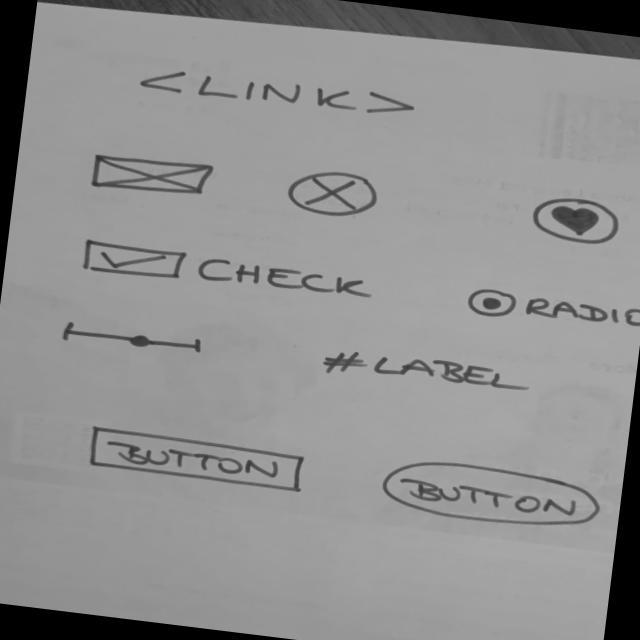button: (376, 452, 610, 540), (80, 421, 313, 496)
checkbox: (78, 234, 382, 308)
icon-button: (526, 188, 626, 248)
image: (82, 146, 219, 204), (283, 164, 382, 222)
label: (316, 340, 534, 400)
link: (134, 61, 422, 125)
radio: (459, 281, 640, 335)
slider: (53, 318, 211, 362)
